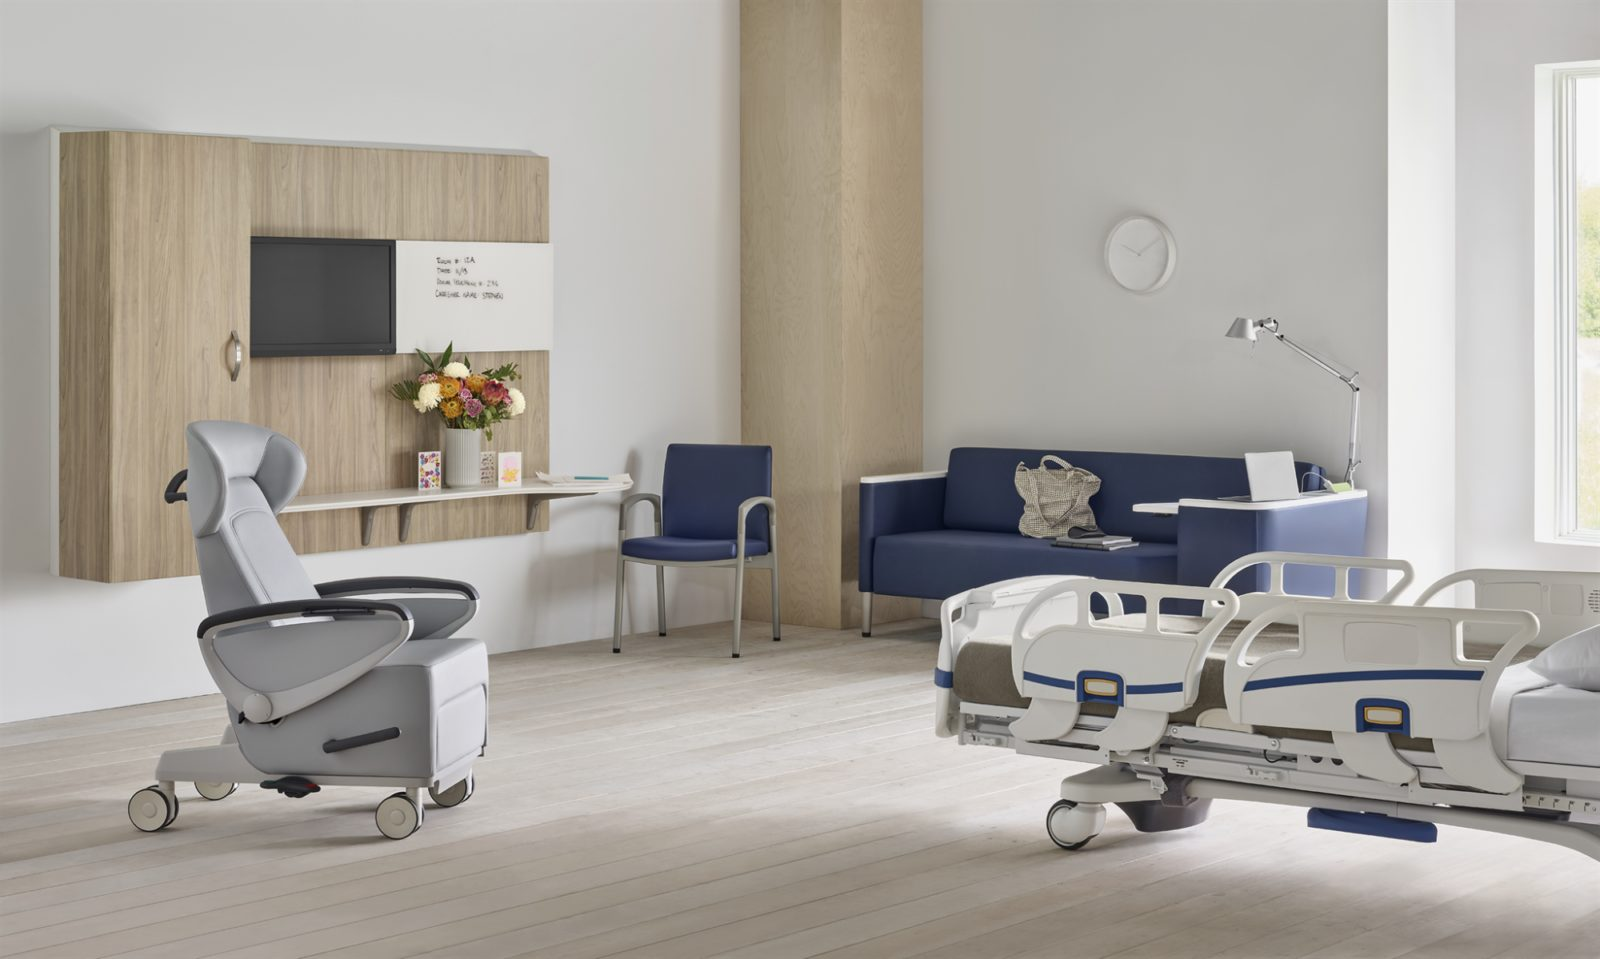TV: (248, 232, 396, 357)
bedrail: (1219, 601, 1544, 798), (1008, 585, 1241, 753), (1202, 548, 1414, 629), (1412, 569, 1600, 652)
chair: (126, 418, 491, 843), (608, 442, 789, 659)
countertop: (226, 483, 615, 510)
foot_board: (934, 575, 1099, 741)
handle: (223, 324, 245, 386)
hospital_bed: (929, 548, 1600, 873)
sofa: (852, 445, 1368, 644)
